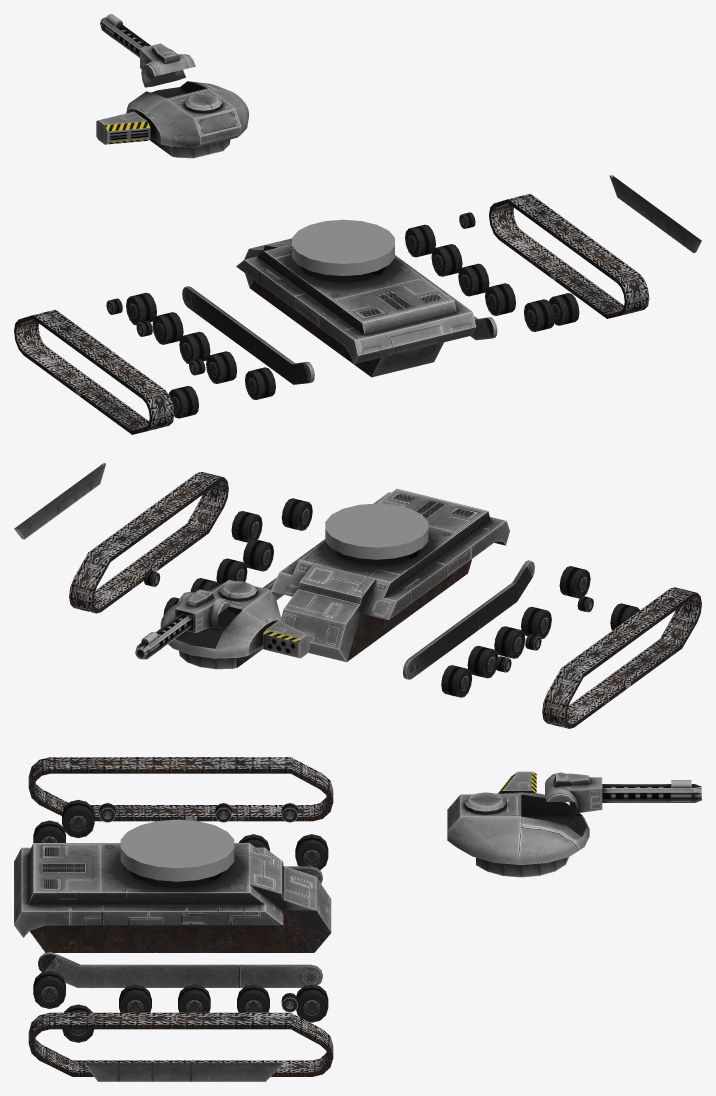
File: Myrmidon_ex.FBX
3 views of the same model, one above another, from view 1: azimuth 30°, elevation 25°; view 2: azimuth 150°, elevation 25°; view 3: azimuth 270°, elevation 25° (orthographic). The views are drawn at different scales.
Visible parts, largest first — view 1: body, trackr, trackl1, turret, Cylinder001, mantlet_02, launcher_2, barrel_1, wheel5, wheel7, wheel10, wheel3 (+8 smaller); view 2: body, trackr, trackl1, turret, Cylinder001, mantlet_02, launcher_2, barrel_1, wheel7, wheel8, wheel11, wheel5 (+6 smaller); view 3: body, turret, trackr, trackl1, Cylinder001, barrel_1, mantlet_02, wheel7, wheel13, wheel1, wheel8, wheel4 (+5 smaller).
Boxes of the visible parts, x1=… form: body: x1=182, y1=175, x2=701, y2=384; trackr: x1=14, y1=309, x2=174, y2=434; trackl1: x1=489, y1=193, x2=649, y2=318; turret: x1=126, y1=81, x2=248, y2=158; Cylinder001: x1=292, y1=219, x2=394, y2=275; mantlet_02: x1=140, y1=43, x2=195, y2=87; launcher_2: x1=96, y1=111, x2=150, y2=144; barrel_1: x1=100, y1=14, x2=150, y2=57; wheel5: x1=485, y1=283, x2=515, y2=315; wheel7: x1=524, y1=299, x2=554, y2=331; wheel10: x1=152, y1=312, x2=183, y2=344; wheel3: x1=431, y1=244, x2=462, y2=276; body: x1=14, y1=463, x2=534, y2=679; trackr: x1=542, y1=587, x2=701, y2=728; trackl1: x1=69, y1=472, x2=228, y2=613; turret: x1=160, y1=580, x2=282, y2=669; Cylinder001: x1=325, y1=503, x2=428, y2=559; mantlet_02: x1=175, y1=589, x2=230, y2=632; launcher_2: x1=263, y1=620, x2=309, y2=658; barrel_1: x1=135, y1=612, x2=193, y2=659; wheel7: x1=281, y1=498, x2=312, y2=530; wheel8: x1=441, y1=665, x2=471, y2=697; wheel11: x1=494, y1=626, x2=525, y2=658; wheel5: x1=243, y1=539, x2=273, y2=571; body: x1=14, y1=843, x2=331, y2=1081; turret: x1=447, y1=792, x2=589, y2=877; trackr: x1=28, y1=757, x2=333, y2=821; trackl1: x1=28, y1=1012, x2=333, y2=1076; Cylinder001: x1=120, y1=819, x2=234, y2=881; barrel_1: x1=602, y1=780, x2=701, y2=802; mantlet_02: x1=545, y1=772, x2=602, y2=821; wheel7: x1=33, y1=970, x2=65, y2=1008; wheel13: x1=62, y1=799, x2=94, y2=838; wheel1: x1=296, y1=984, x2=328, y2=1022; wheel8: x1=295, y1=834, x2=328, y2=870; wheel4: x1=178, y1=984, x2=210, y2=1012.
Bounding box in the file's own units: 105 × 27.05 × 98.51.
Materials: 2 (1 with a texture image).
